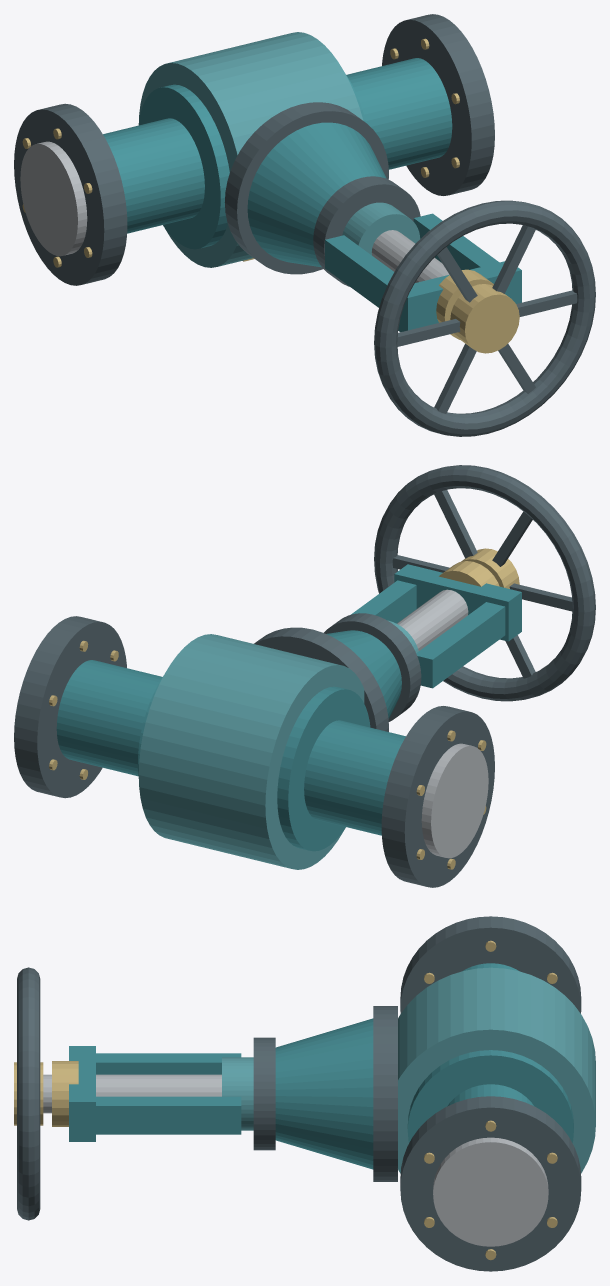
Rendered from ap-valve-gate-handwheel-m041.glb.
3 views of the same model, one above another, from view 1: azimuth 30°, elevation 25°; view 2: azimuth 150°, elevation 25°; view 3: azimuth 270°, elevation 25° (orthographic).
Parts seen in each view (by area): view 1: valve_m041_part_000, valve_m041_part_018, valve_m041_part_005, valve_m041_part_010, valve_m041_part_001, valve_m041_part_002, valve_m041_part_009, valve_m041_part_006, valve_m041_part_003, valve_m041_part_011, valve_m041_part_019, valve_m041_part_013 (+11 smaller); view 2: valve_m041_part_005, valve_m041_part_000, valve_m041_part_018, valve_m041_part_001, valve_m041_part_002, valve_m041_part_006, valve_m041_part_003, valve_m041_part_013, valve_m041_part_009, valve_m041_part_015, valve_m041_part_011, valve_m041_part_010 (+8 smaller); view 3: valve_m041_part_005, valve_m041_part_002, valve_m041_part_010, valve_m041_part_004, valve_m041_part_001, valve_m041_part_007, valve_m041_part_018, valve_m041_part_014, valve_m041_part_009, valve_m041_part_016, valve_m041_part_013, valve_m041_part_011 (+4 smaller).
Part boxes in pixels (x1,y1,x2,y2): valve_m041_part_000: (103, 58, 452, 233); valve_m041_part_018: (374, 200, 595, 436); valve_m041_part_005: (139, 32, 363, 267); valve_m041_part_010: (247, 122, 386, 267); valve_m041_part_001: (14, 103, 127, 285); valve_m041_part_002: (382, 14, 494, 195); valve_m041_part_009: (224, 102, 388, 274); valve_m041_part_006: (138, 84, 229, 249); valve_m041_part_003: (20, 141, 87, 256); valve_m041_part_011: (313, 176, 420, 286); valve_m041_part_019: (450, 284, 519, 353); valve_m041_part_013: (325, 235, 394, 307); valve_m041_part_005: (138, 634, 364, 869); valve_m041_part_000: (56, 660, 405, 835); valve_m041_part_018: (374, 465, 595, 701); valve_m041_part_001: (381, 706, 494, 887); valve_m041_part_002: (14, 616, 126, 798); valve_m041_part_006: (277, 686, 370, 851); valve_m041_part_003: (421, 743, 488, 858); valve_m041_part_013: (416, 602, 505, 688); valve_m041_part_009: (254, 627, 388, 731); valve_m041_part_015: (394, 564, 521, 641); valve_m041_part_011: (324, 613, 421, 721); valve_m041_part_010: (326, 630, 401, 718); valve_m041_part_005: (398, 967, 595, 1173); valve_m041_part_002: (400, 1096, 581, 1271); valve_m041_part_010: (275, 1018, 373, 1169); valve_m041_part_004: (433, 1137, 548, 1246); valve_m041_part_001: (400, 916, 581, 1013); valve_m041_part_007: (407, 1050, 573, 1142); valve_m041_part_018: (17, 967, 40, 1220); valve_m041_part_014: (96, 1096, 241, 1134); valve_m041_part_009: (373, 1006, 397, 1181); valve_m041_part_016: (43, 1074, 221, 1113); valve_m041_part_013: (96, 1053, 241, 1074); valve_m041_part_011: (253, 1037, 275, 1150).
Size of the model in its own units: 1.8 by 0.9583 by 2.2.
